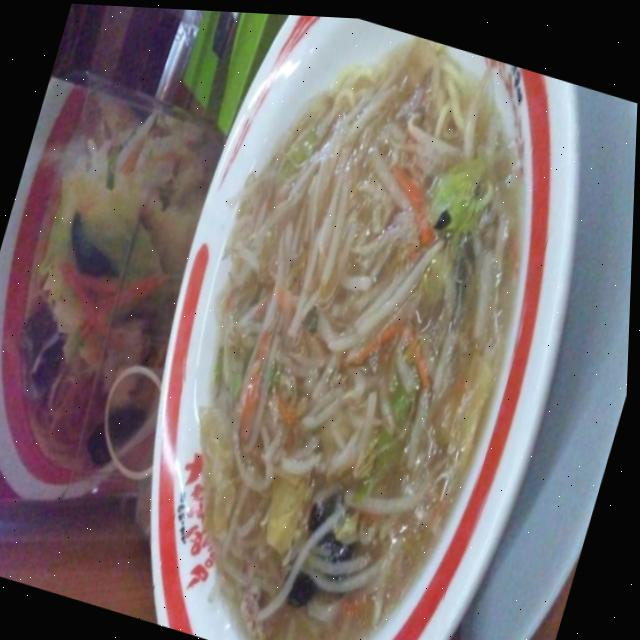鸡肉料理 含炸鸡: (72, 7, 640, 640)
